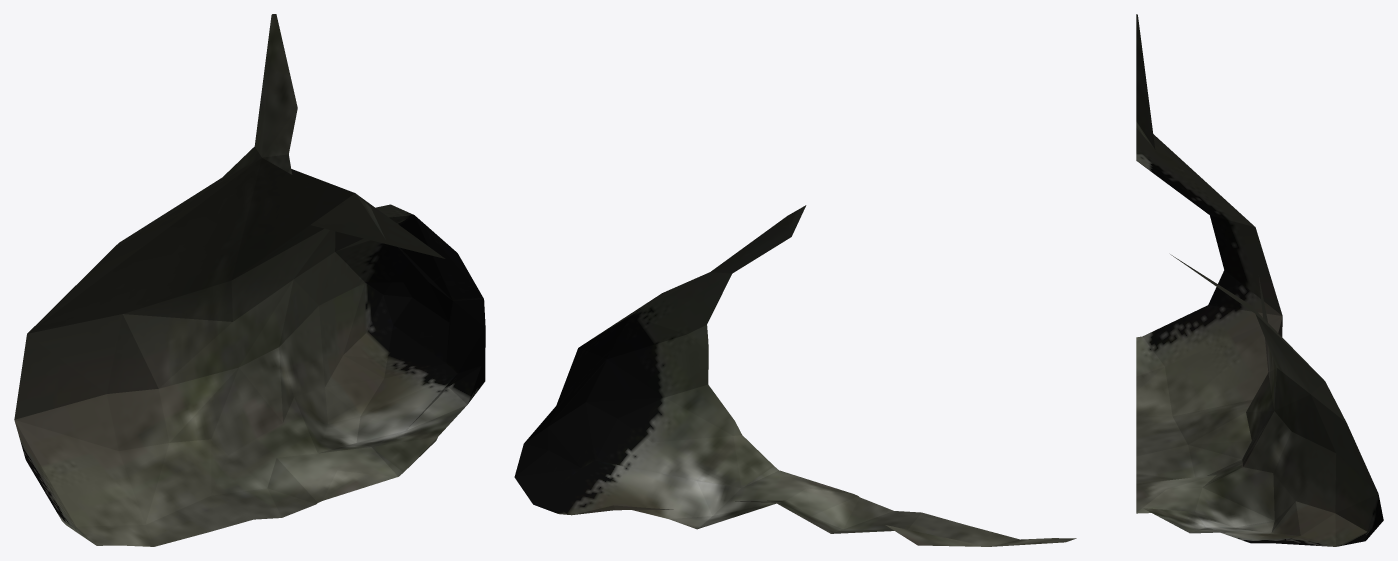
3 views of the same model, side by side, from view 1: azimuth 30°, elevation 25°; view 2: azimuth 150°, elevation 25°; view 3: azimuth 270°, elevation 25° (orthographic). The views are drawn at different scales.
Bounding box in the file's own units: 3.26 × 3.3 × 1.63.
1 material, 1 textured.
